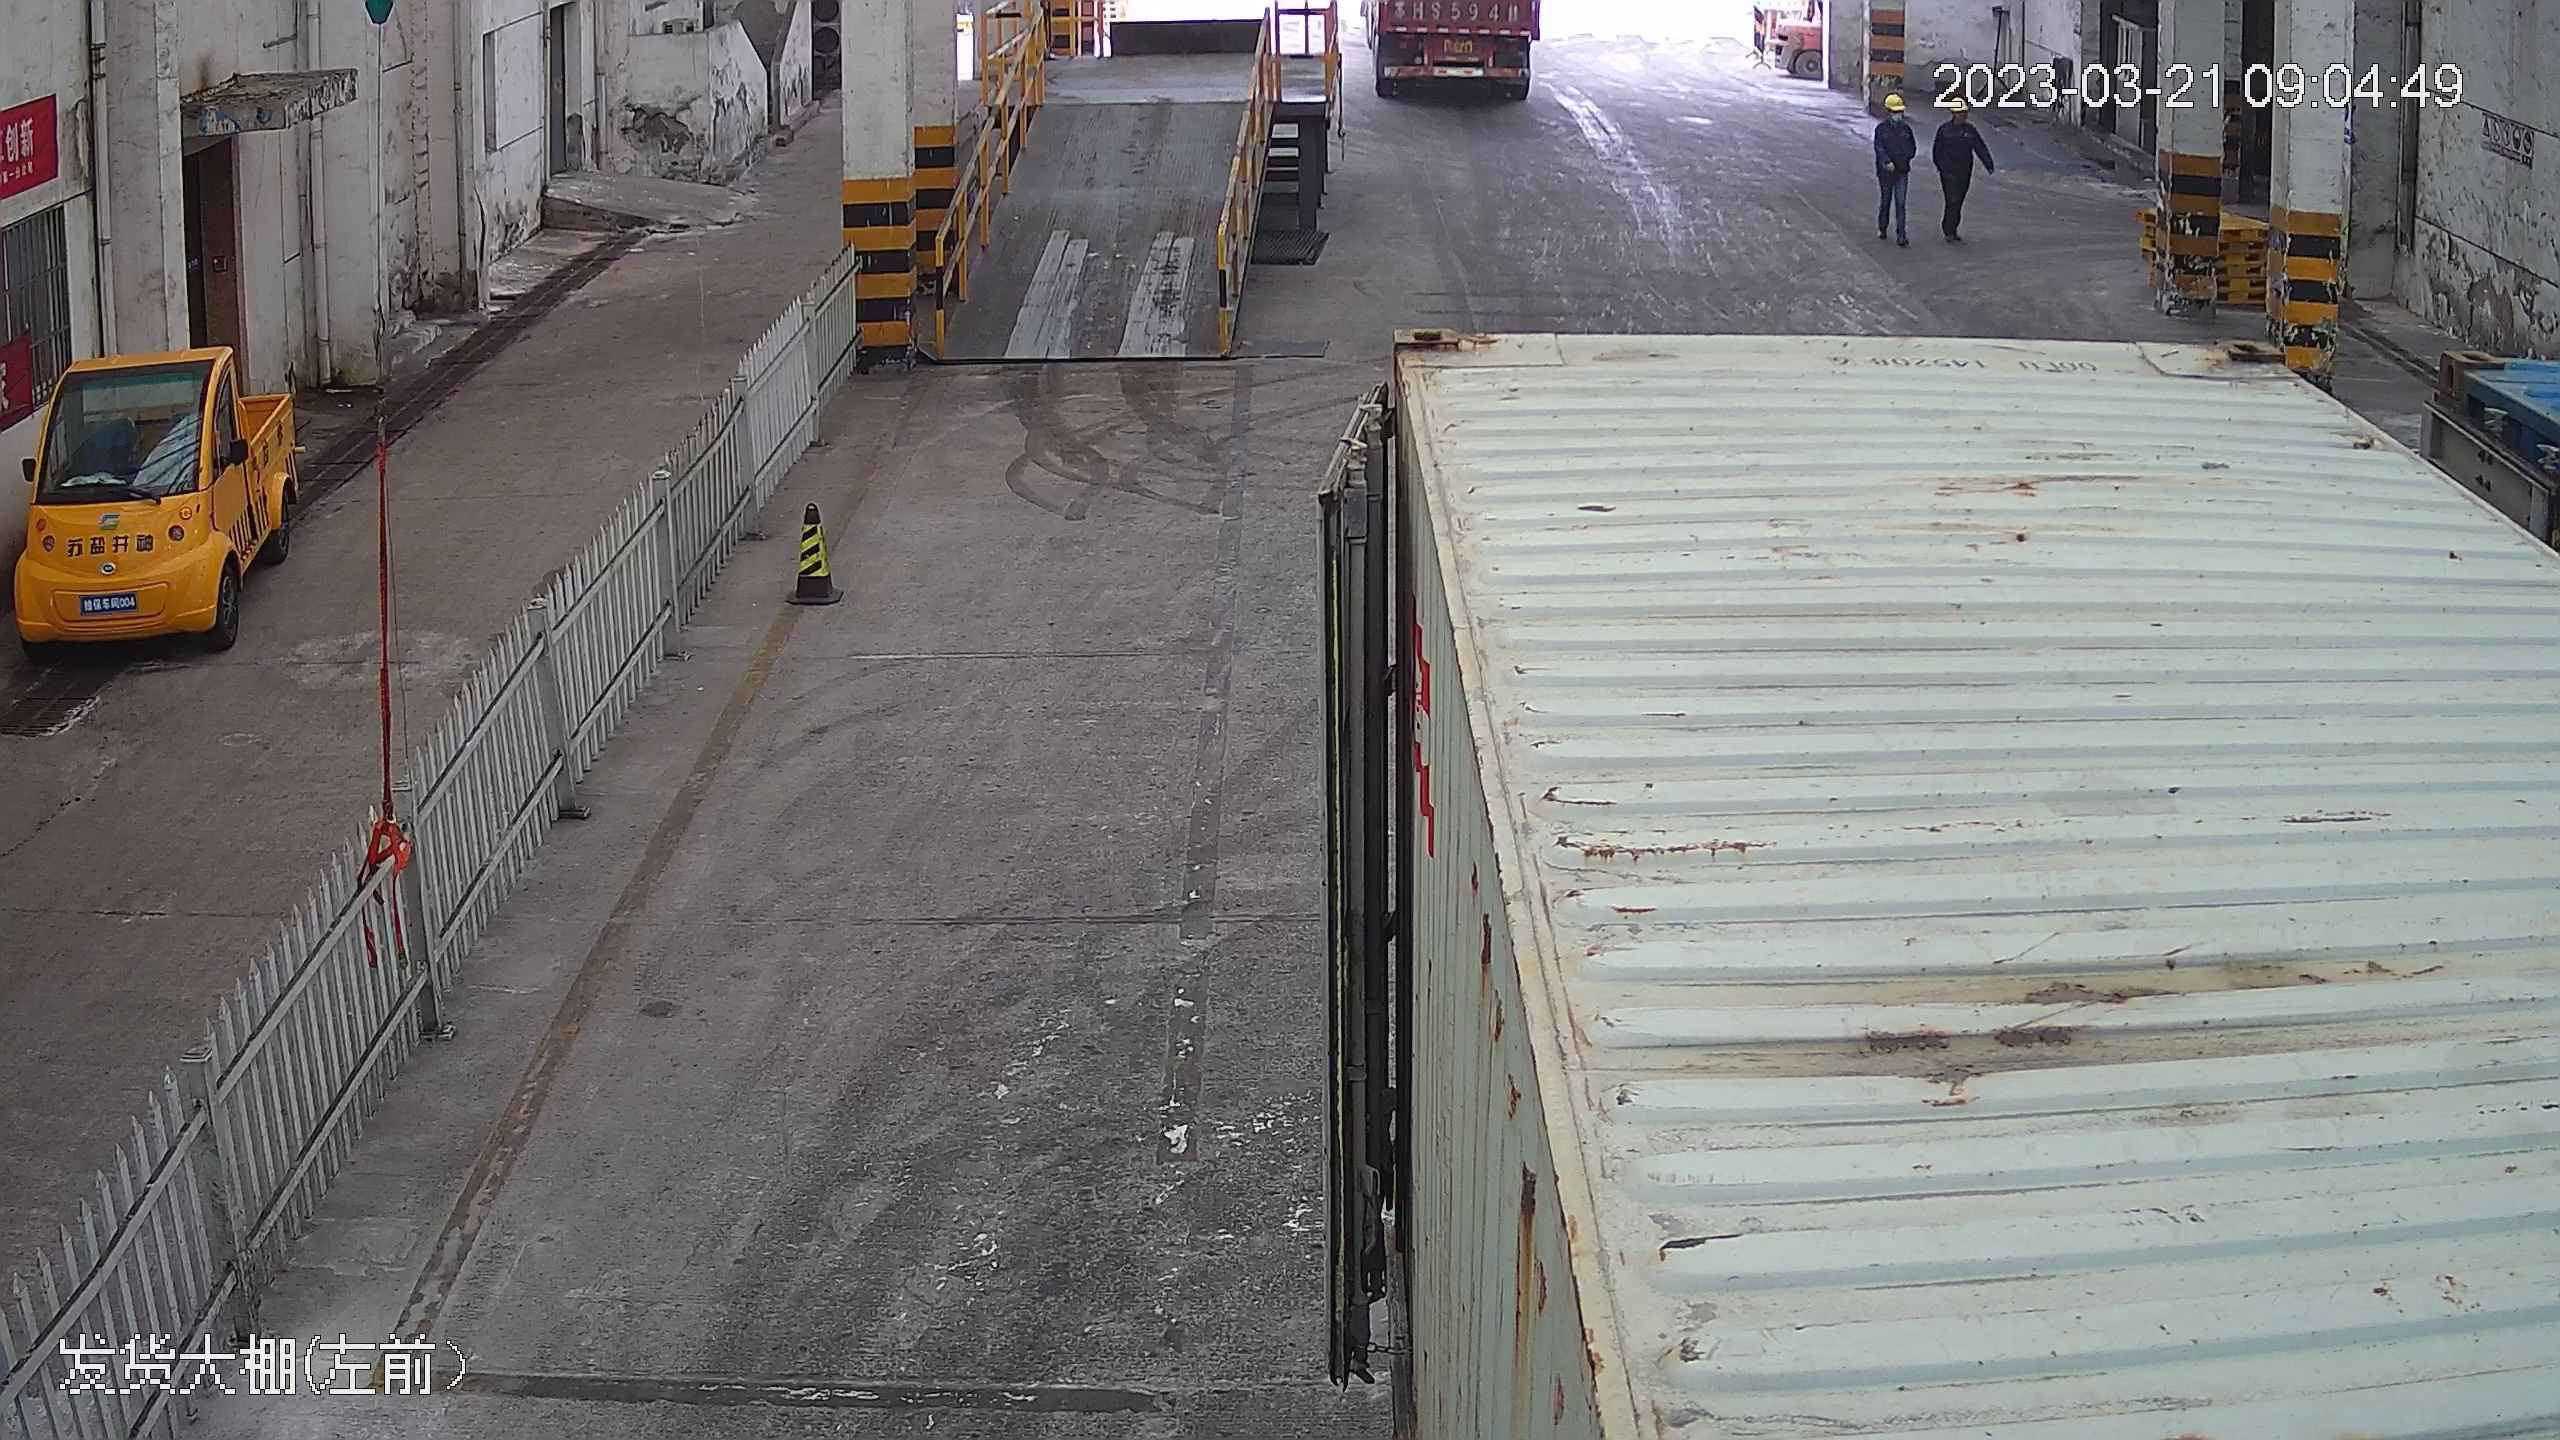head: (1936, 94, 1982, 143), (1872, 90, 1915, 143)
helmet: (1878, 88, 1906, 111), (1944, 92, 1968, 112)
people: (1933, 95, 1988, 241), (1871, 90, 1923, 243)
truck: (1279, 295, 2550, 1440)
